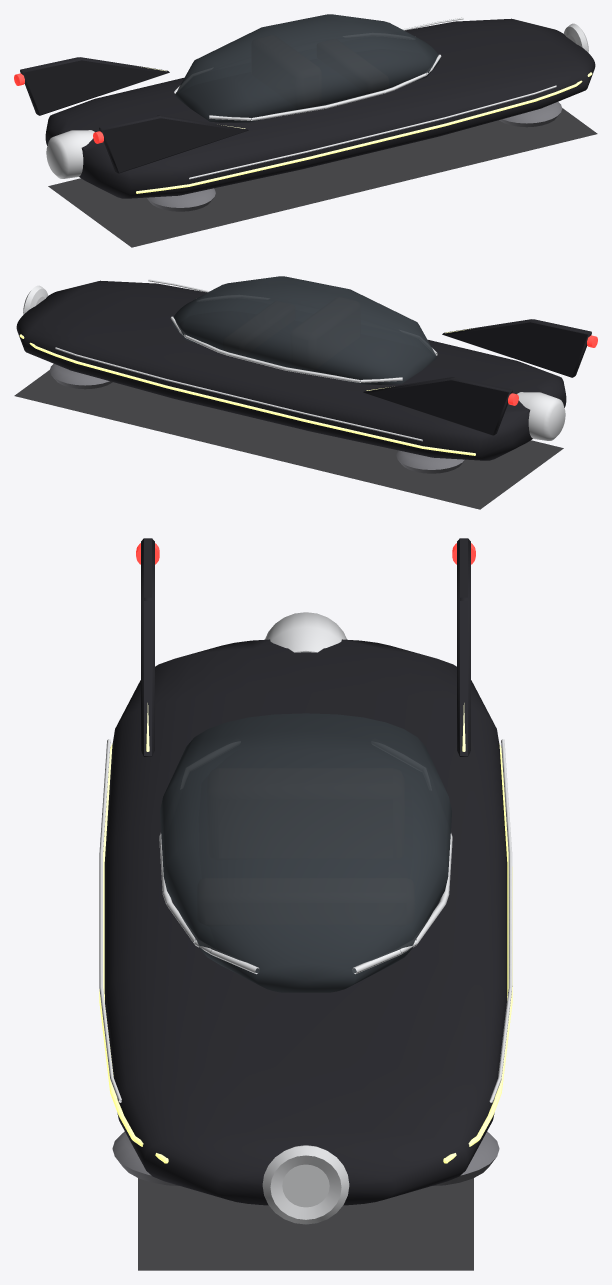
File: car_retro_c.glb
3 views of the same model, one above another, from view 1: azimuth 30°, elevation 25°; view 2: azimuth 150°, elevation 25°; view 3: azimuth 270°, elevation 25° (orthographic). The views are drawn at different scales.
Parts seen in each view (by area): view 1: car_retro_c; view 2: car_retro_c; view 3: car_retro_c.
Part boxes in pixels (bbox=[...]): car_retro_c: bbox=[14, 14, 597, 247]; car_retro_c: bbox=[14, 276, 597, 509]; car_retro_c: bbox=[99, 538, 512, 1270].
Size of the model in its own units: 6.15 by 1.45 by 2.09.
